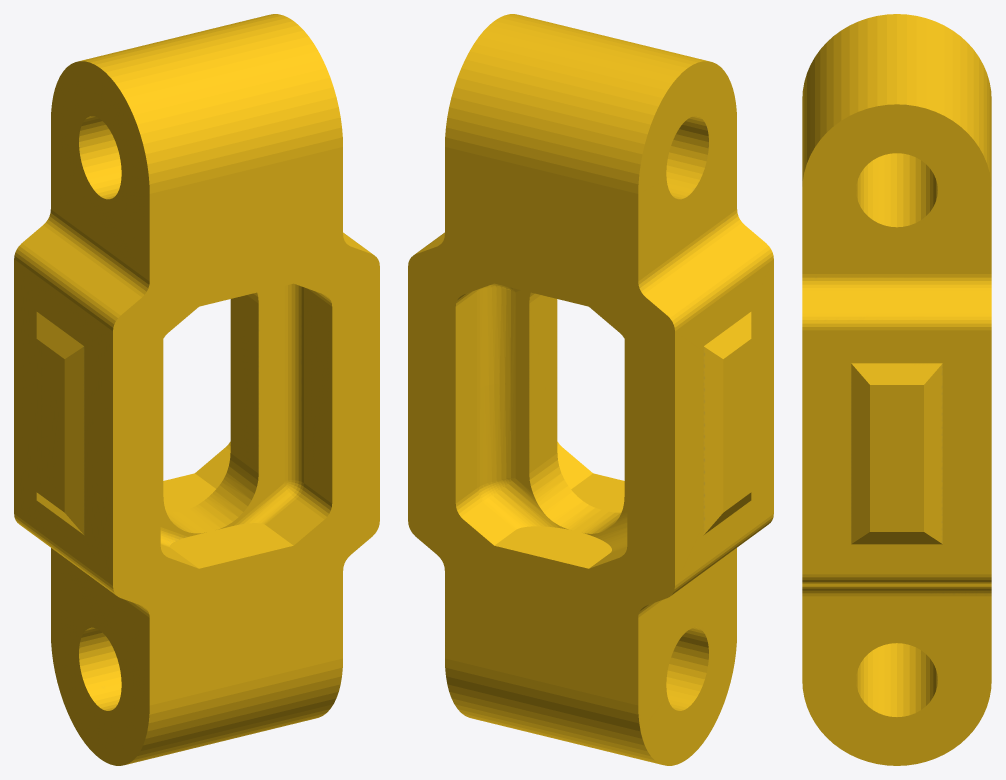
Rendered from chink2.glb.
3 renders of one model, left to right at view 1: azimuth 30°, elevation 25°; view 2: azimuth 150°, elevation 25°; view 3: azimuth 270°, elevation 25°, orthographic. The views are drawn at different scales.
Parts seen in each view (by area): view 1: node_id3; view 2: node_id3; view 3: node_id3.
Boxes of the visible parts, x1,y1,x2,y2 form: node_id3: (14, 14, 379, 765); node_id3: (408, 14, 773, 765); node_id3: (802, 14, 991, 765).
Size of the model in its own units: 0.227 by 0.512 by 0.1329.
1 material, 1 textured.
